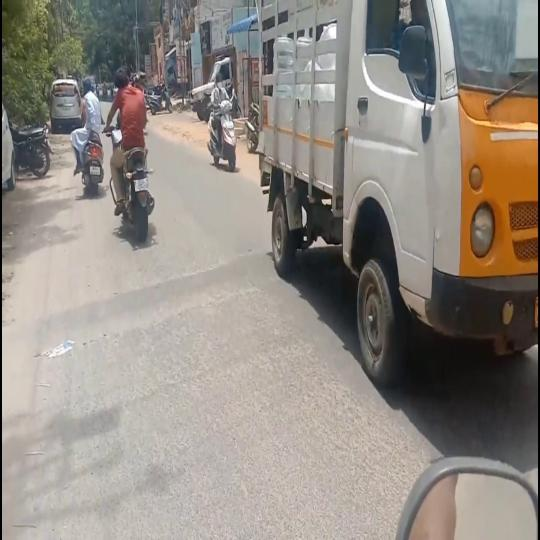Speed Bump: (16, 250, 272, 352)
